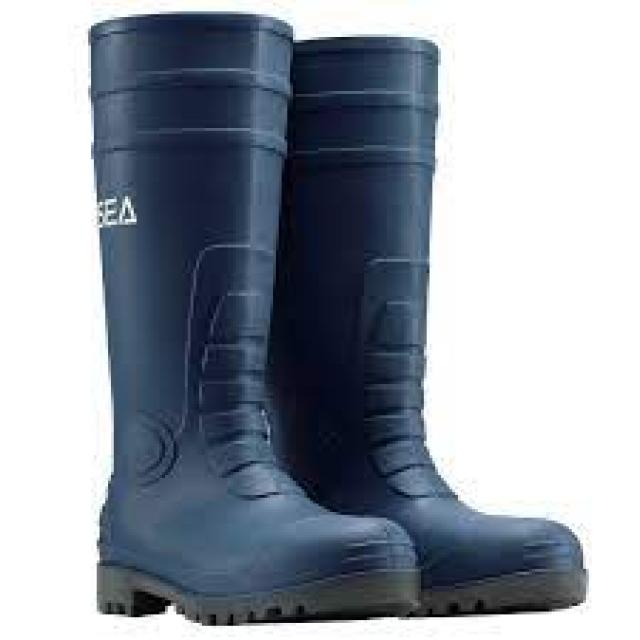shoes: (91, 15, 586, 623)
